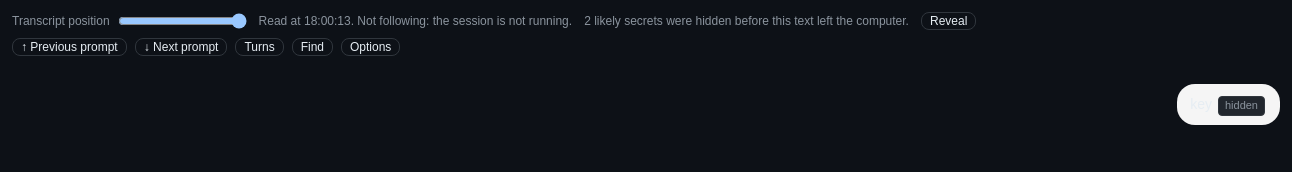
Test: masked secrets and Reveal (#1488) › says how many were hidden and offers Reveal when the desktop allows it
Expected: the text "2 likely secrets were hidden" is shown, [584, 14, 909, 28]
Expected: the element titled "Hidden on this phone: an access token" is shown, [1218, 96, 1265, 116]
What coordinates should you click on to do the following:
click the button "Reveal"
I would click on:
 (949, 21)
Its box is [921, 12, 976, 30].
Wait 120 ms
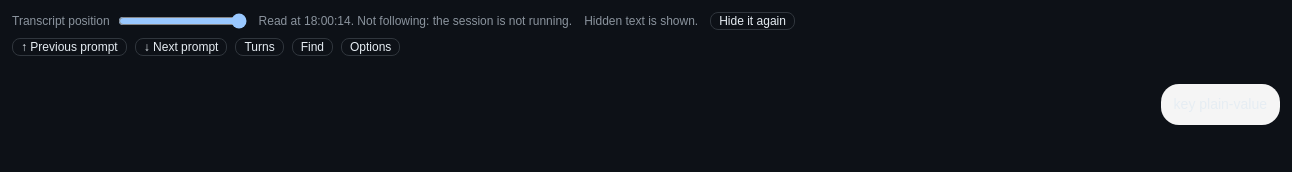
Result: the button "Reveal" is gone
What coordinates should you click on to do the following:
click the button "Hide it again"
I would click on:
 (753, 21)
Its box is [710, 12, 795, 30].
Wait 120 ms
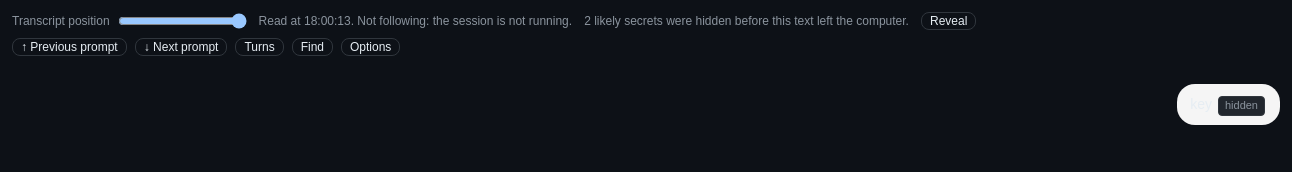
Result: the element titled "Hidden on this phone: an access token" is shown at [1218, 96, 1265, 116]
